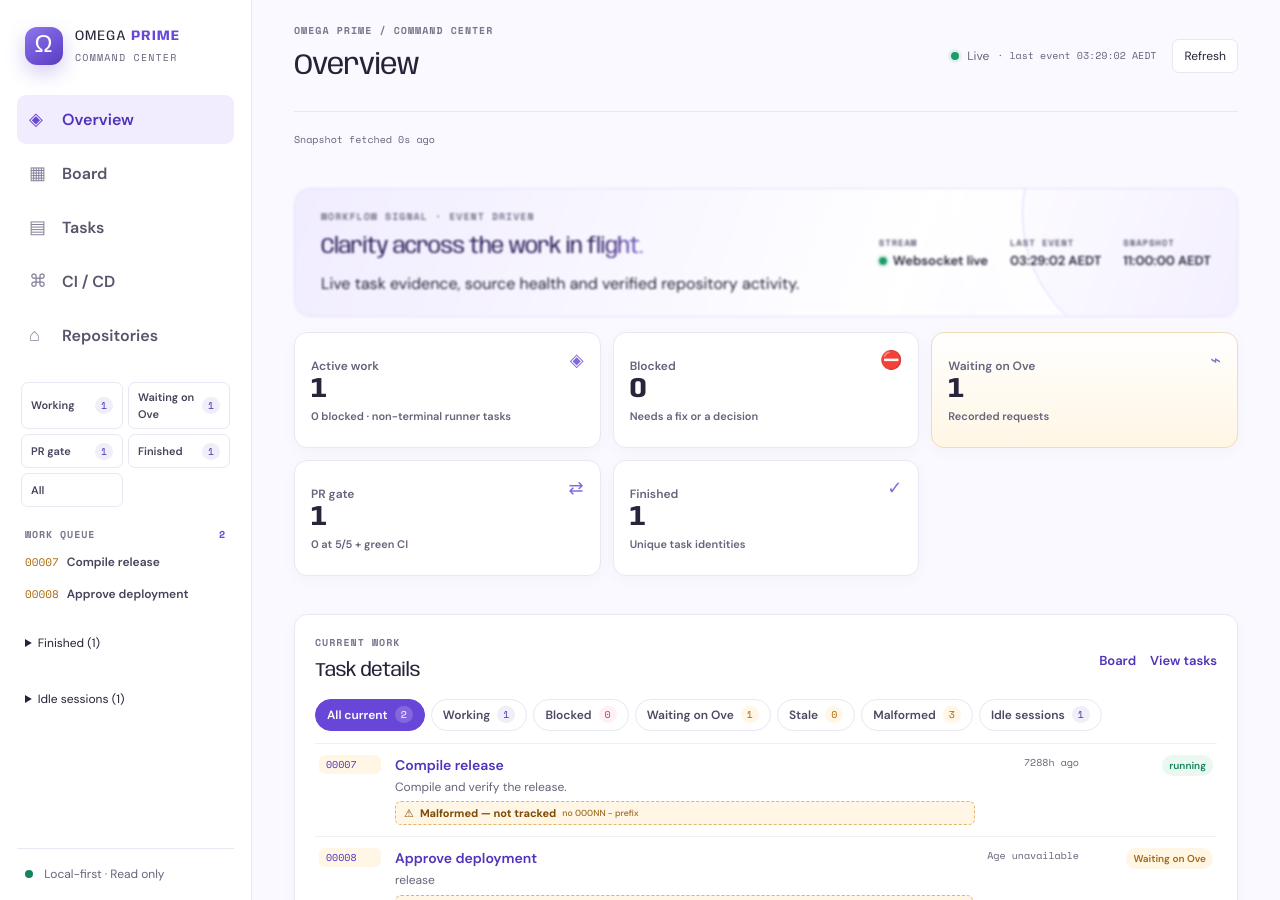
Test: Command Center navigation › renders all views and changes views without document navigation
Expected: the heading "Overview" is shown, [294, 51, 419, 81]
Click the link "⌂ Repositories" at (94, 335), box [29, 323, 158, 347]
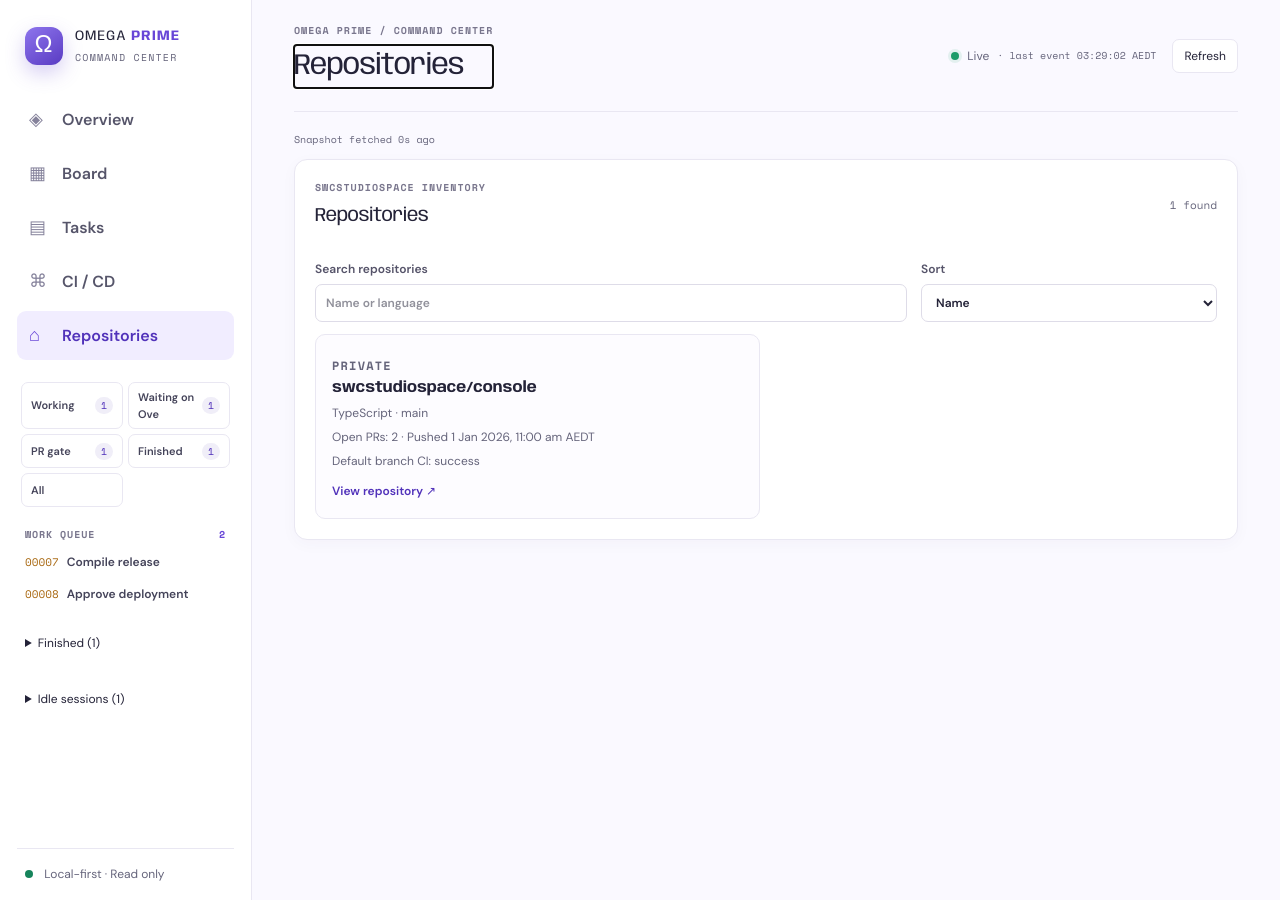
Expected: the heading "Repositories" below "OMEGA PRIME / COMMAND CENTER" is shown, [294, 45, 493, 88]
